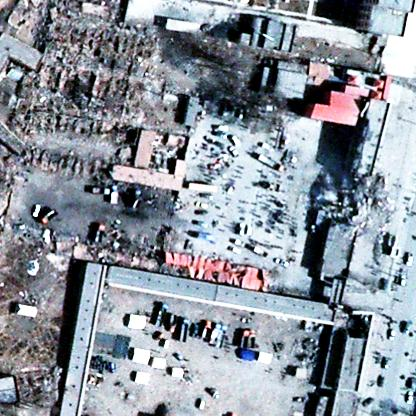collapsed: (8, 1, 158, 142), (309, 170, 394, 232), (48, 232, 162, 273), (163, 252, 271, 293), (15, 148, 110, 186)
